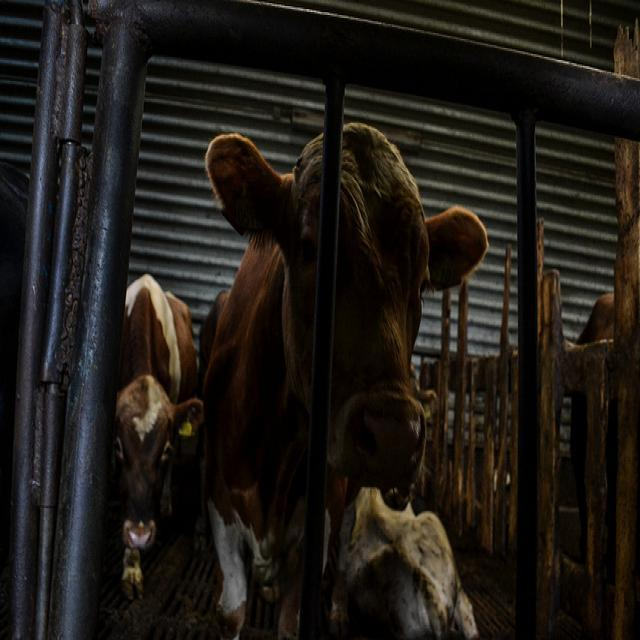cow: (191, 117, 490, 638), (113, 274, 198, 595), (343, 487, 481, 639), (569, 291, 617, 582)
